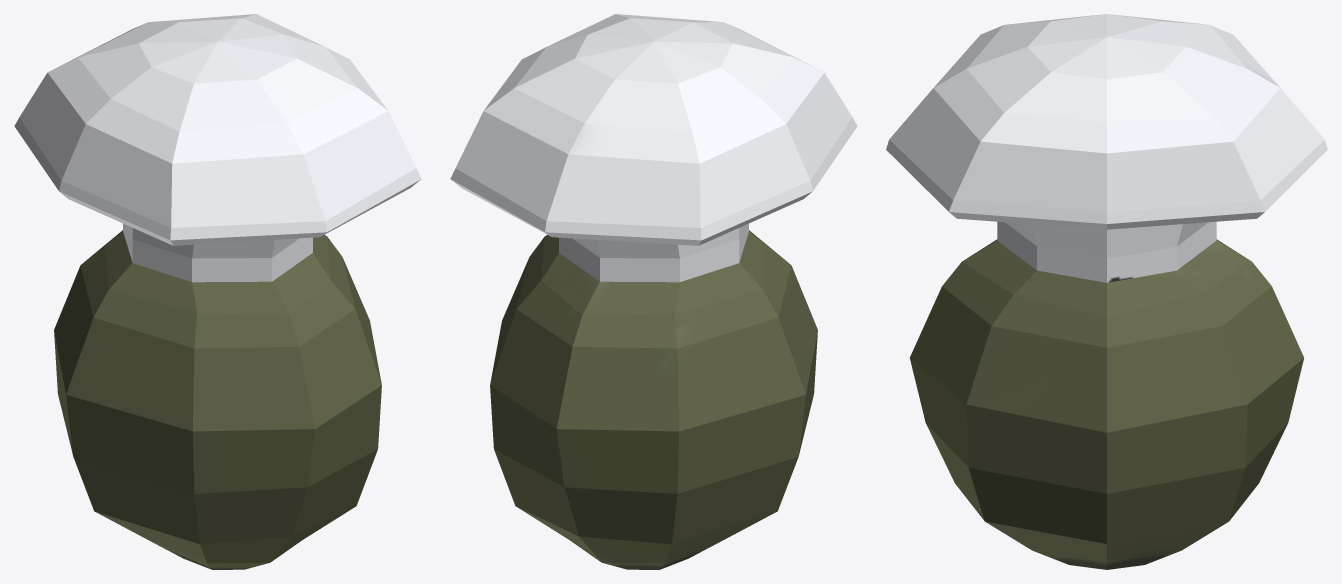
Rendered from S_white.fbx.
3 renders of one model, left to right at view 1: azimuth 30°, elevation 25°; view 2: azimuth 150°, elevation 25°; view 3: azimuth 270°, elevation 25°, orthographic.
Visible parts, largest first — view 1: S_White; view 2: S_White; view 3: S_White.
Part boxes in pixels (box(x1,y1,x2,y2)): S_White: box(14, 14, 421, 569); S_White: box(450, 14, 857, 569); S_White: box(886, 14, 1327, 569).
Size of the model in its own units: 16.32 by 25.69 by 19.82.
1 material, 1 textured.
